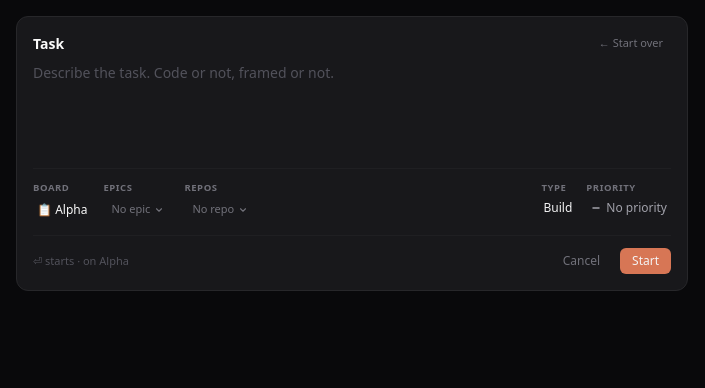
Test: NewTask — board, epics, repos › shows Epics between Board and Repos when the board has active epics
The width and height of the screenshot is (705, 388).
Expected: the text "EPICS" is shown, top-left (103, 181), bottom-right (132, 194)
Click the button "No epic" at (138, 210), box top-left (103, 197), bottom-right (172, 222)
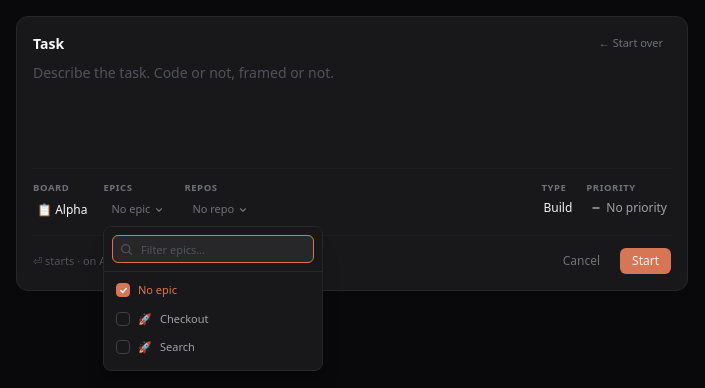
Expected: the text "Checkout" is shown, top-left (160, 310), bottom-right (208, 327)
